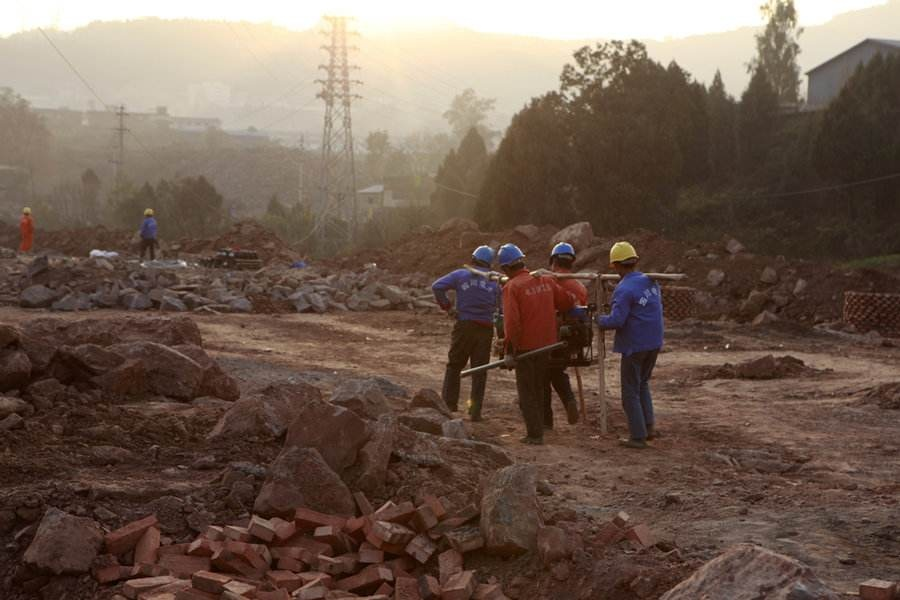blue: (494, 242, 527, 277), (547, 239, 575, 275), (468, 243, 495, 272)
yellow: (606, 240, 640, 279)
